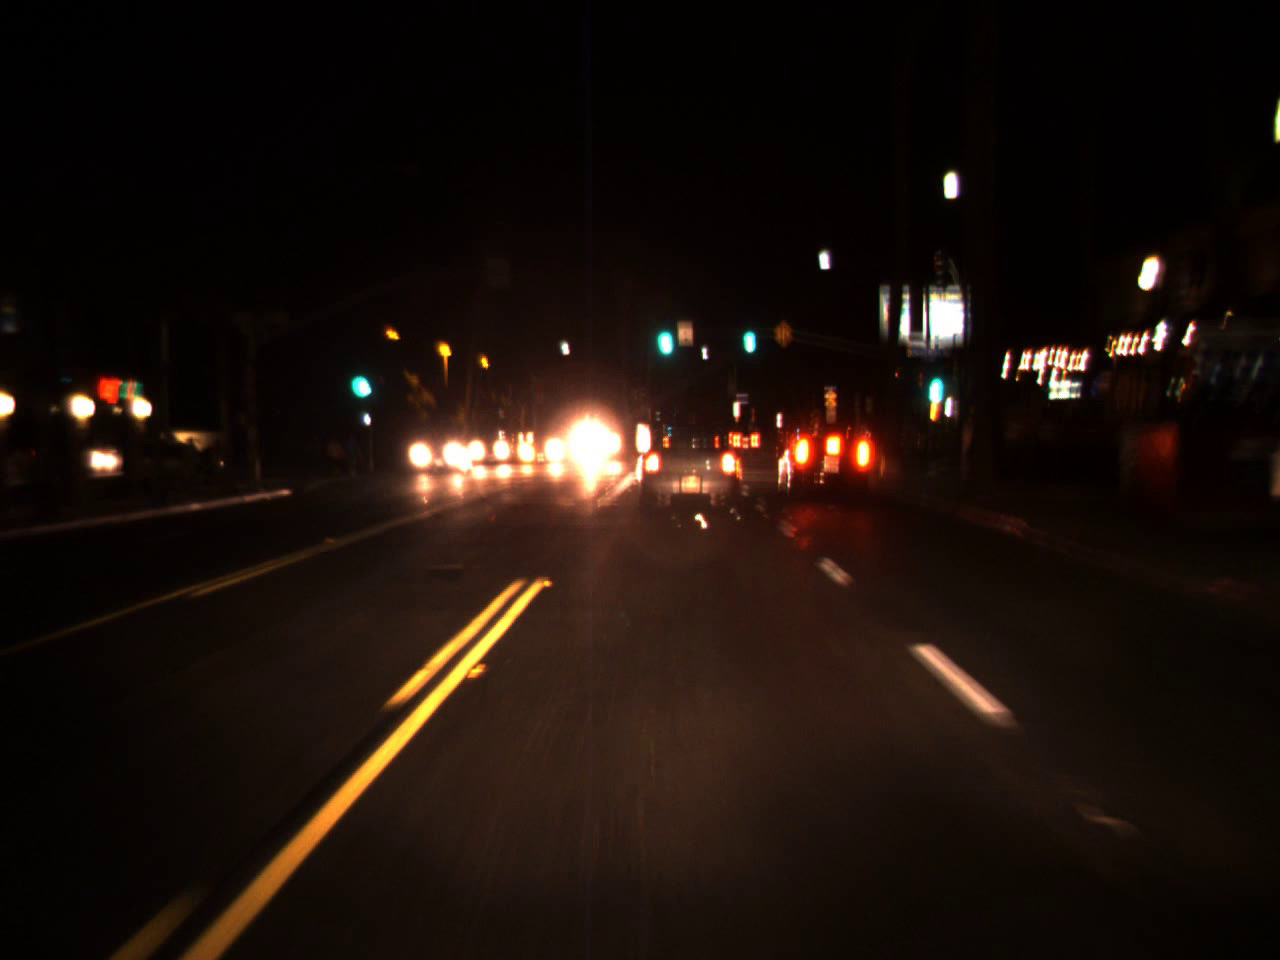go: (651, 299, 676, 365), (923, 347, 946, 410), (346, 348, 369, 405), (738, 308, 757, 356)
